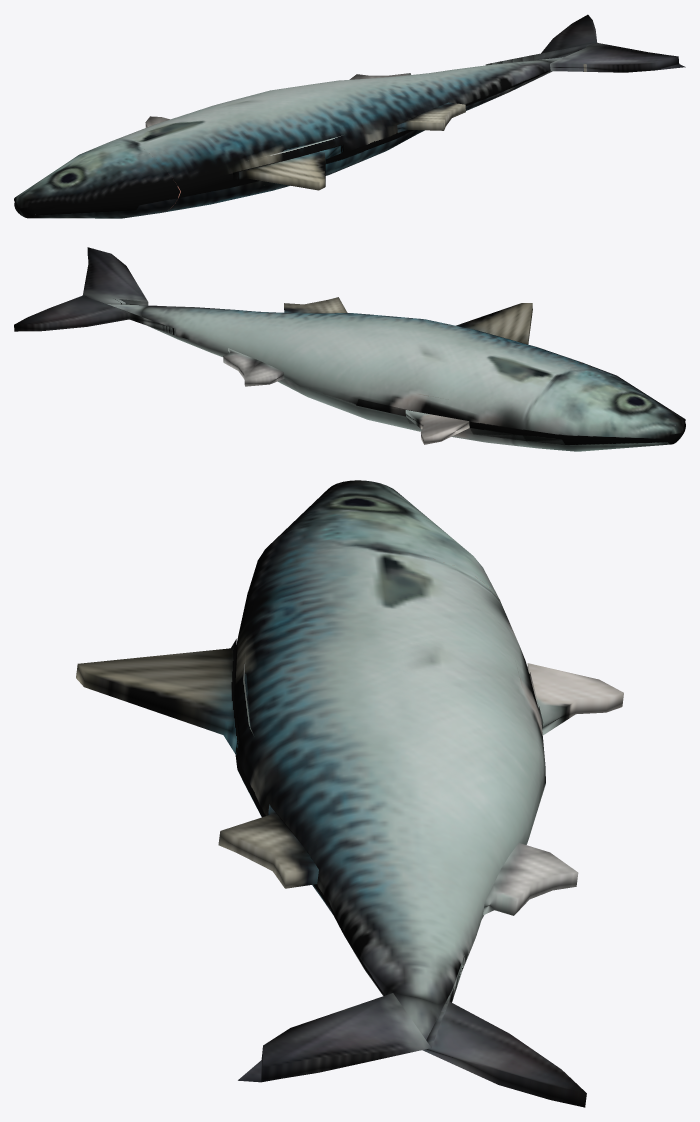
File: fiszka.fbx
The picture shows the model from 3 angles, top to bottom: view 1: azimuth 30°, elevation 25°; view 2: azimuth 150°, elevation 25°; view 3: azimuth 270°, elevation 25°; orthographic projection. The views are drawn at different scales.
Visible parts, largest first — view 1: body, head; view 2: body, head; view 3: body, head.
Boxes of the visible parts, x1,y1,x2,y2 form: body: [112, 14, 685, 212]; head: [14, 140, 180, 218]; body: [14, 247, 582, 448]; head: [522, 363, 685, 451]; body: [76, 548, 623, 1107]; head: [248, 480, 499, 599].
Size of the model in its own units: 90.72 by 10.36 by 34.67.
